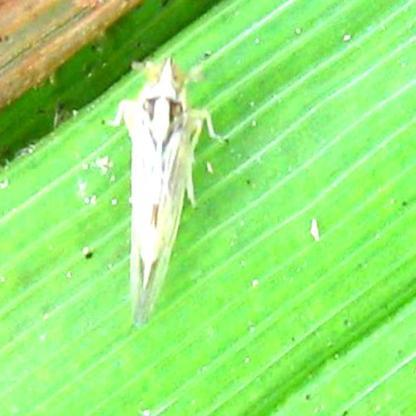brown-planthopper: (107, 55, 215, 327)
